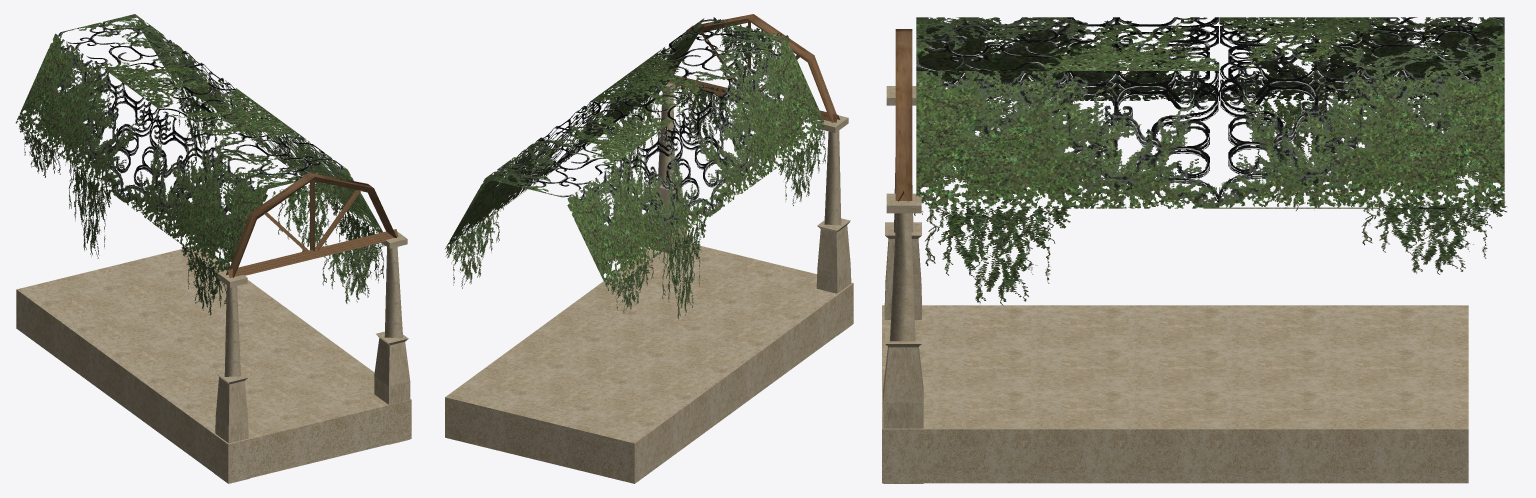
Rendered from thm_nboo_imprv_arbor_long_s01_l1.fbx.
The picture shows the model from 3 angles, left to right: view 1: azimuth 30°, elevation 25°; view 2: azimuth 150°, elevation 25°; view 3: azimuth 270°, elevation 25°; orthographic projection. The views are drawn at different scales.
Parts seen in each view (by area): view 1: mesh_node; view 2: mesh_node; view 3: mesh_node.
Part boxes in pixels (bbox=[...]): mesh_node: bbox=[15, 14, 411, 483]; mesh_node: bbox=[445, 14, 853, 483]; mesh_node: bbox=[882, 17, 1506, 483].
Size of the model in its own units: 4 by 5.86 by 8.73.
4 materials, 4 textured.
